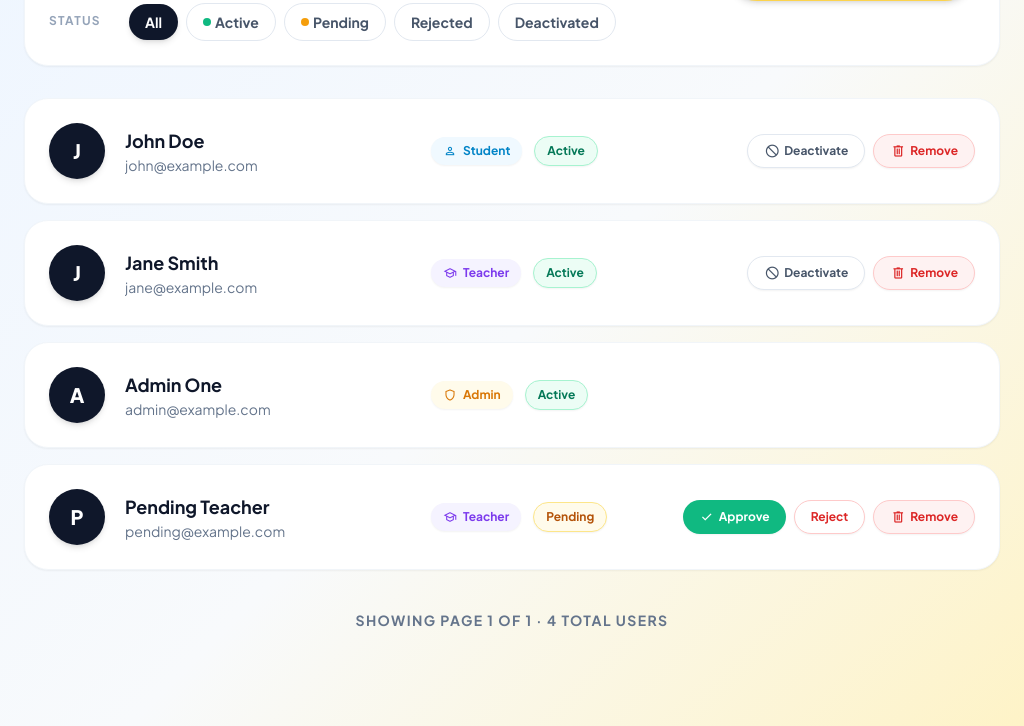
Test: AdminUsersPage › shows an error message and re-enables Approve if the approval request fails
This screenshot has width=1024, height=726.
(page scrolled)
Expected: the heading "Pending Teacher" is shown, [125, 493, 285, 521]
Click the button "Approve". click: (734, 517)
box: [683, 500, 786, 534]
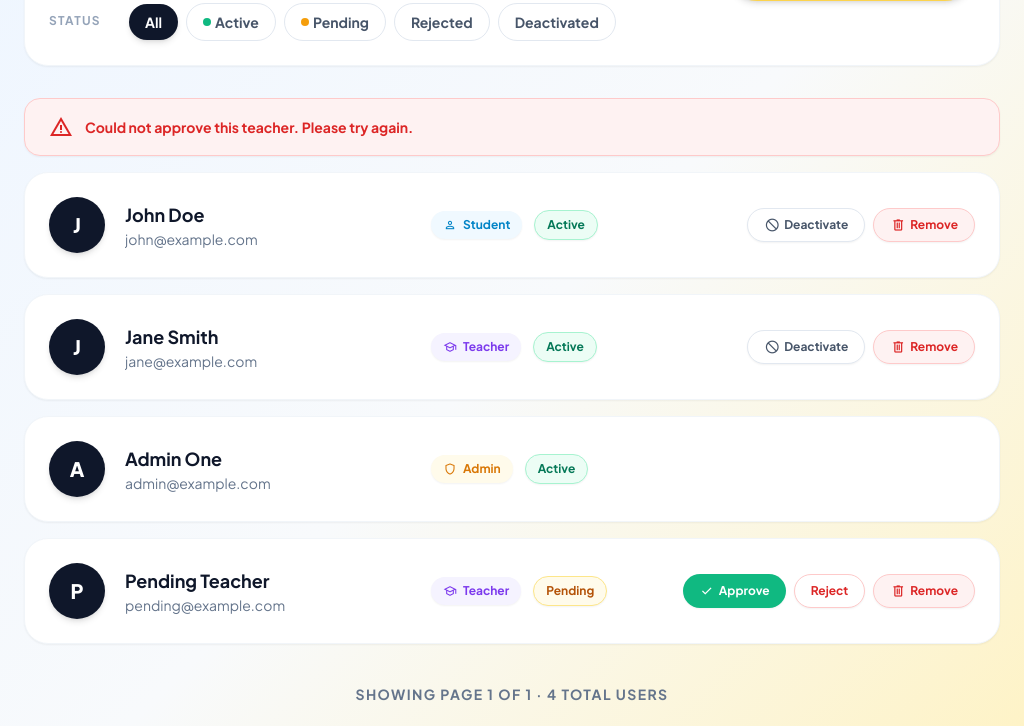
Expected: the button "Approve" is enabled, [683, 574, 786, 608]
Now the text "Could not approve this teacher. Please try again." is shown, box [24, 98, 1000, 156]
